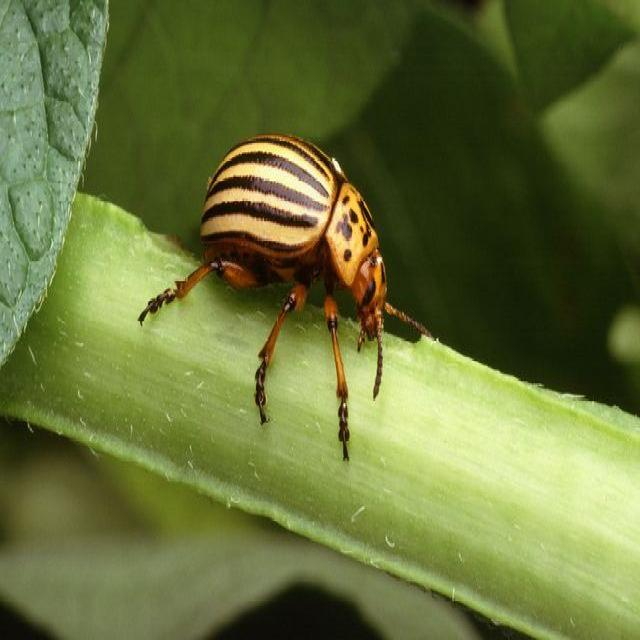ShuCaiHuaBanChong-Grown-: (176, 101, 414, 401)
